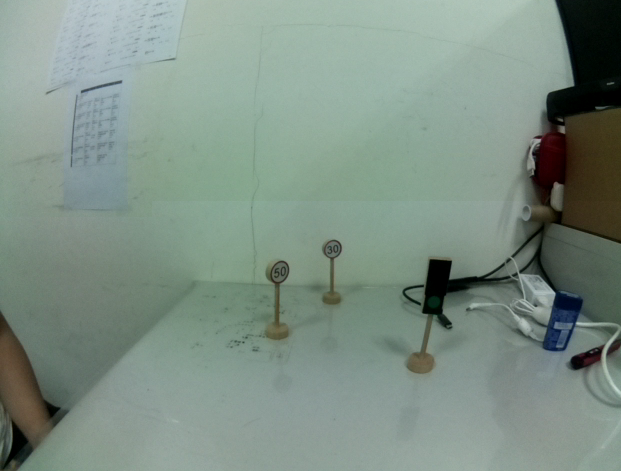Green: (421, 252, 455, 318)
Speed30: (321, 236, 349, 260)
Speed50: (263, 257, 292, 285)
